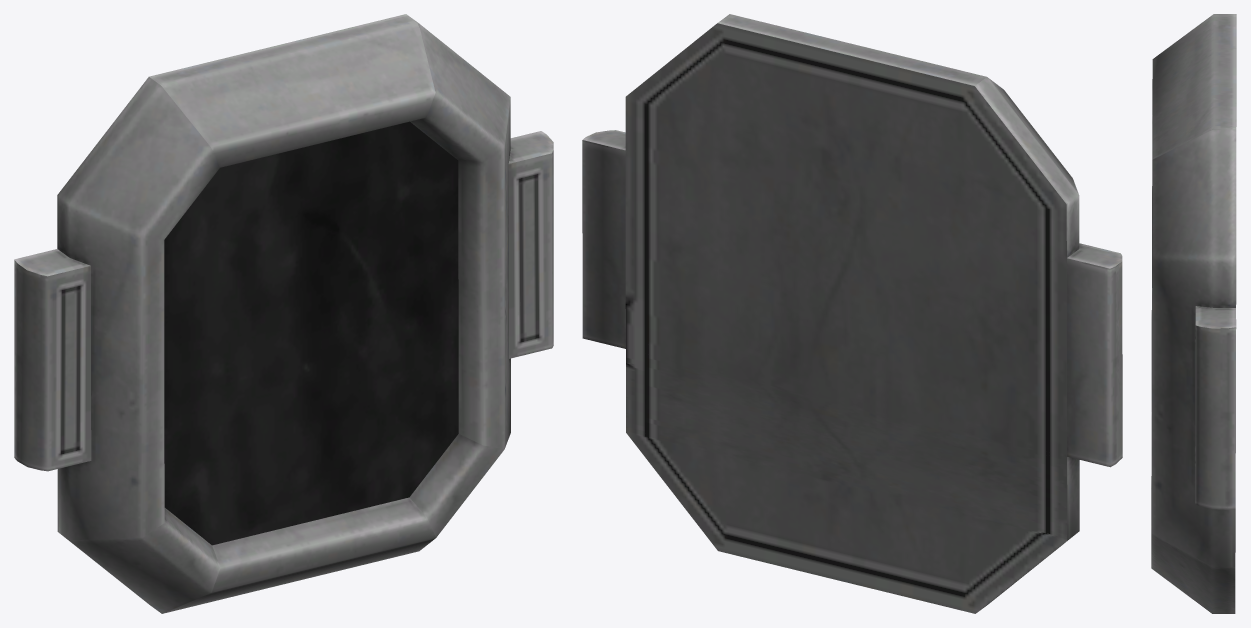
Rendered from theta_panel_small.dae.
3 renders of one model, left to right at view 1: azimuth 30°, elevation 25°; view 2: azimuth 150°, elevation 25°; view 3: azimuth 270°, elevation 25°, orthographic. The views are drawn at different scales.
Parts seen in each view (by area): view 1: terminal; view 2: terminal; view 3: terminal.
Boxes of the visible parts, x1=… form: terminal: x1=14, y1=14, x2=553, y2=613; terminal: x1=582, y1=14, x2=1122, y2=613; terminal: x1=1151, y1=14, x2=1236, y2=613.
Bounding box in the file's own units: 0.3545 × 0.3379 × 0.0539.
